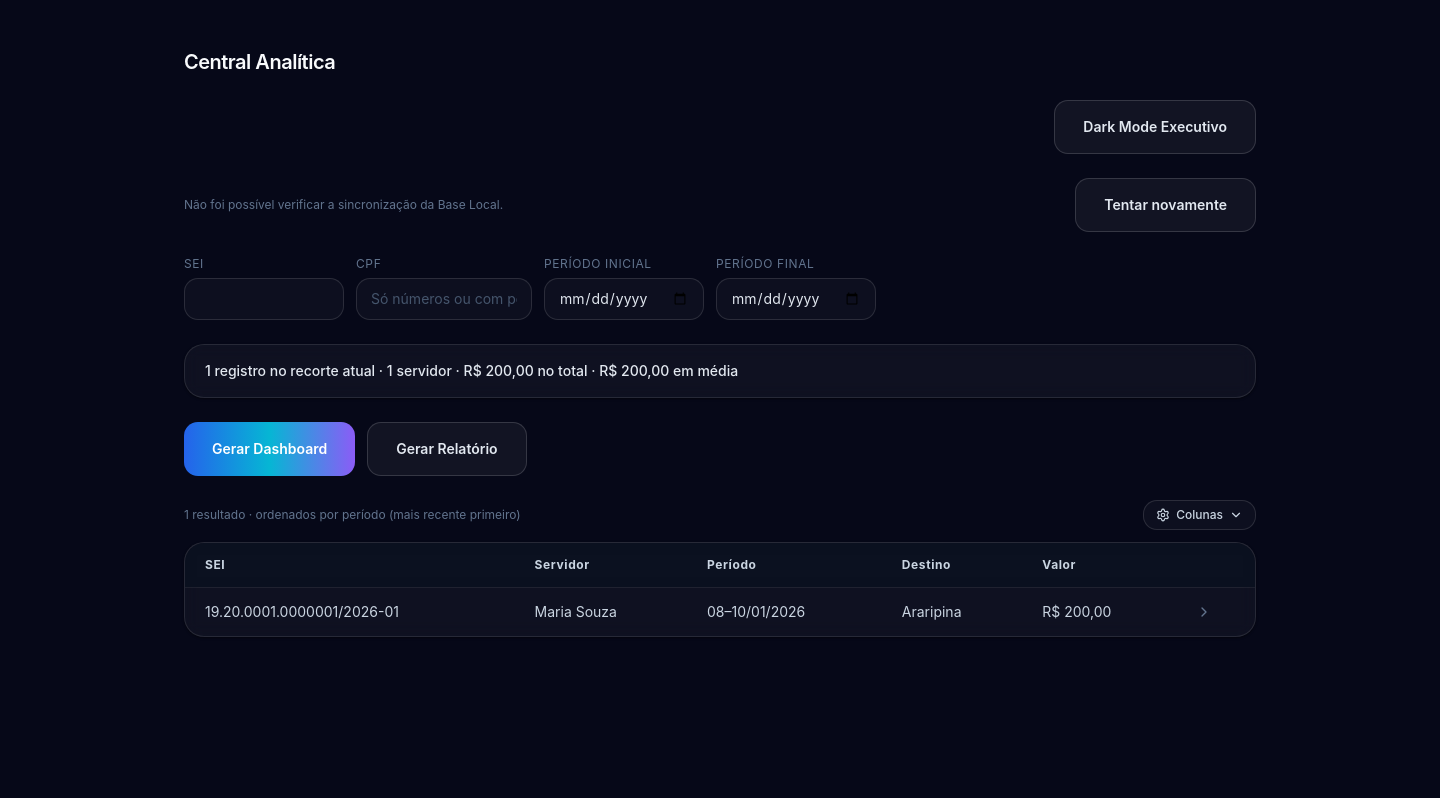
Scenario: CentralAnalitica › '← Voltar aos resultados' devolve a tabela
Click the button "Gerar Dashboard".
click(270, 449)  # box [184,422,355,476]
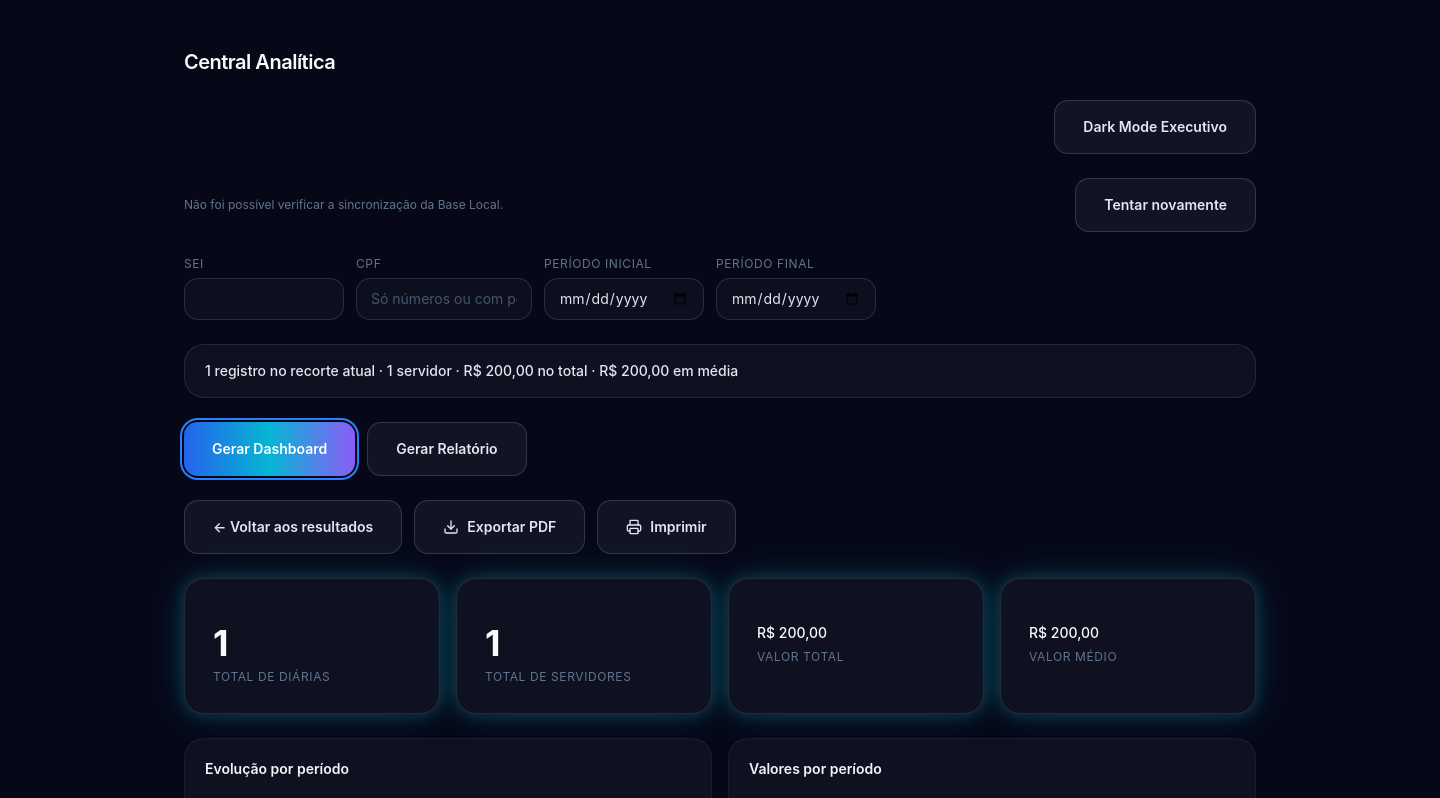
Expected: the text "Total de diárias" is shown, [213,669,330,684]
Click the button "← Voltar aos resultados".
click(293, 527)  # box [184,500,402,554]
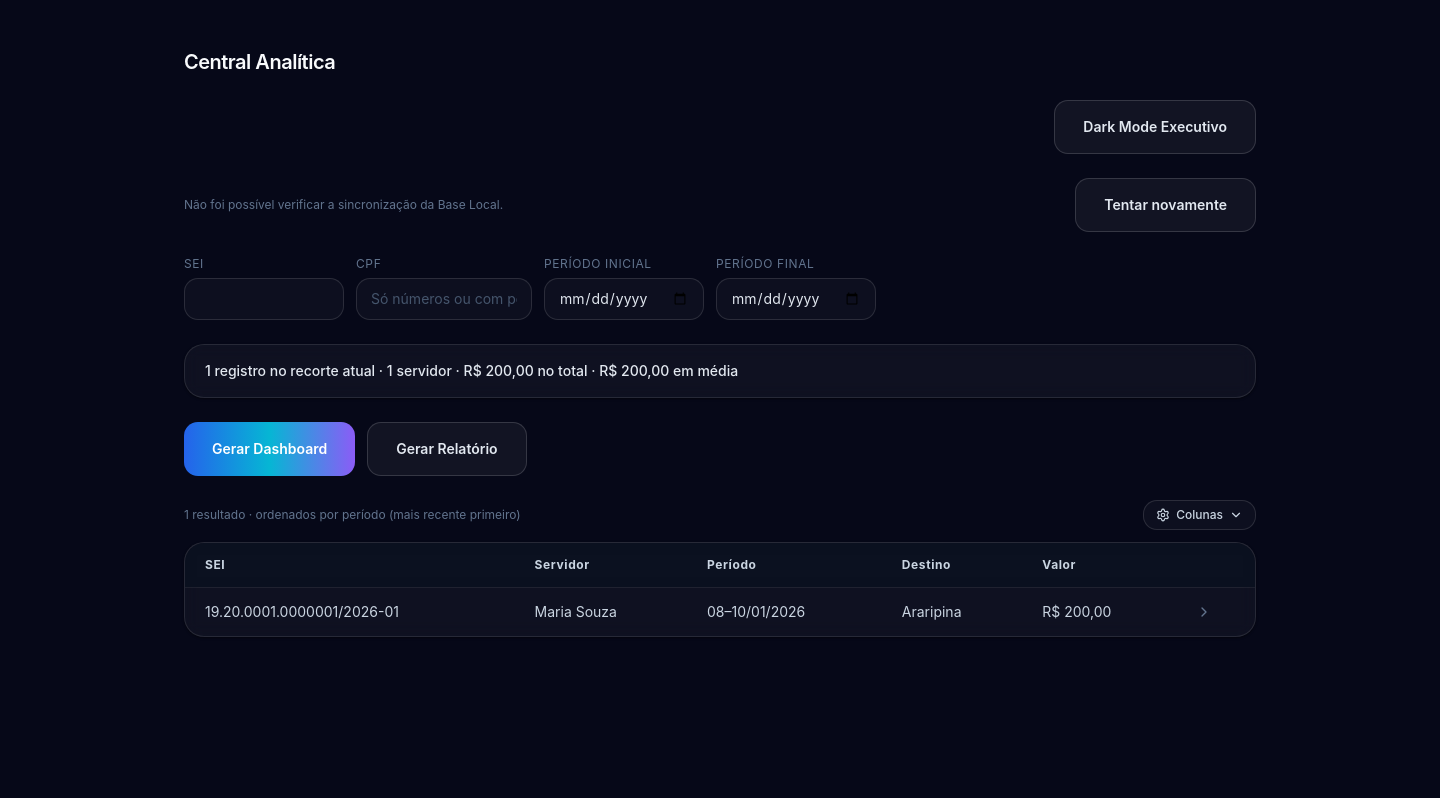
Expected: the text "Total de diárias" is gone
